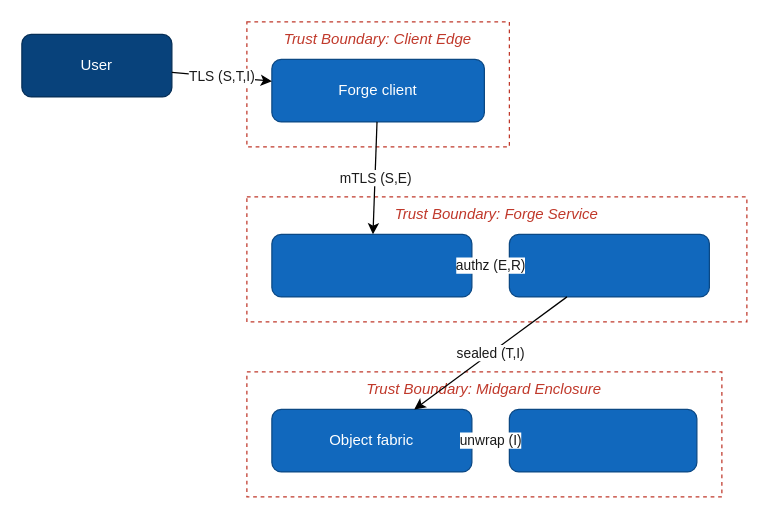
Image size: 769x519. Some labels were removed from this diagram. The shapes that lost their labels are listed below. From the top down, each one's centre as x and y in pixels, then its label:
the point at 371,265: Forge API
the point at 608,265: Domain services
the point at 602,440: Seal (PQ keys)
